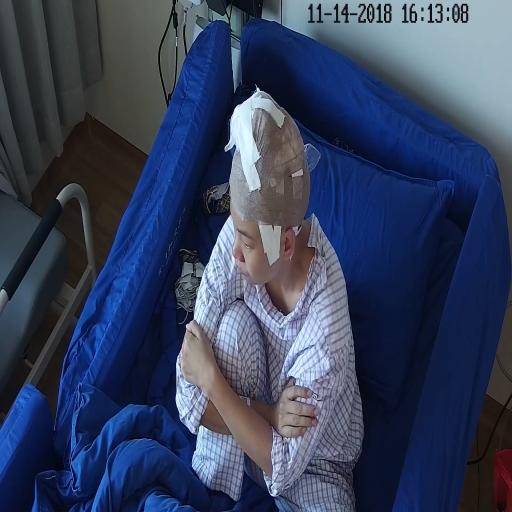Netural: (223, 144, 304, 287)
